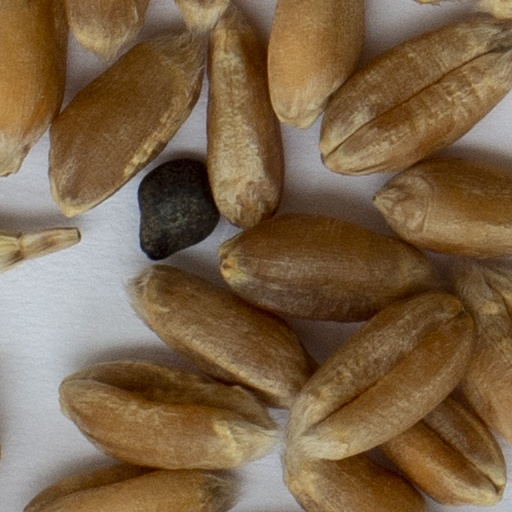Peel-poly: (0, 221, 82, 274)
